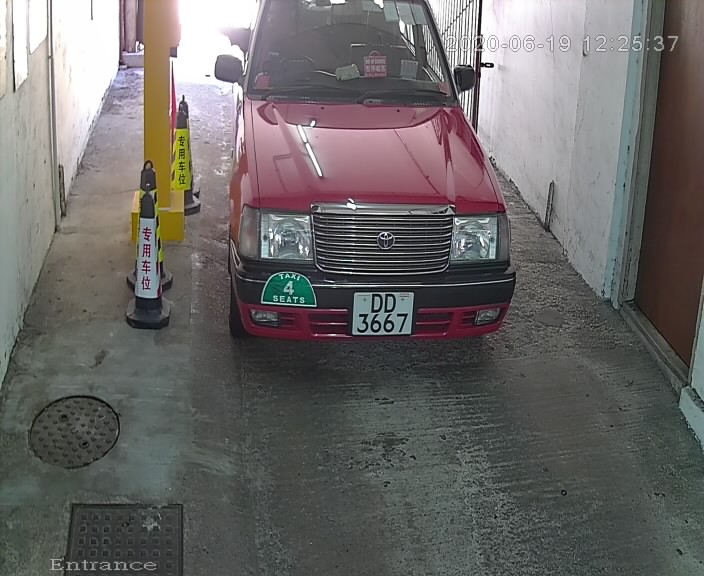taxi: (213, 2, 526, 348)
taxi_mark: (258, 266, 321, 315)
